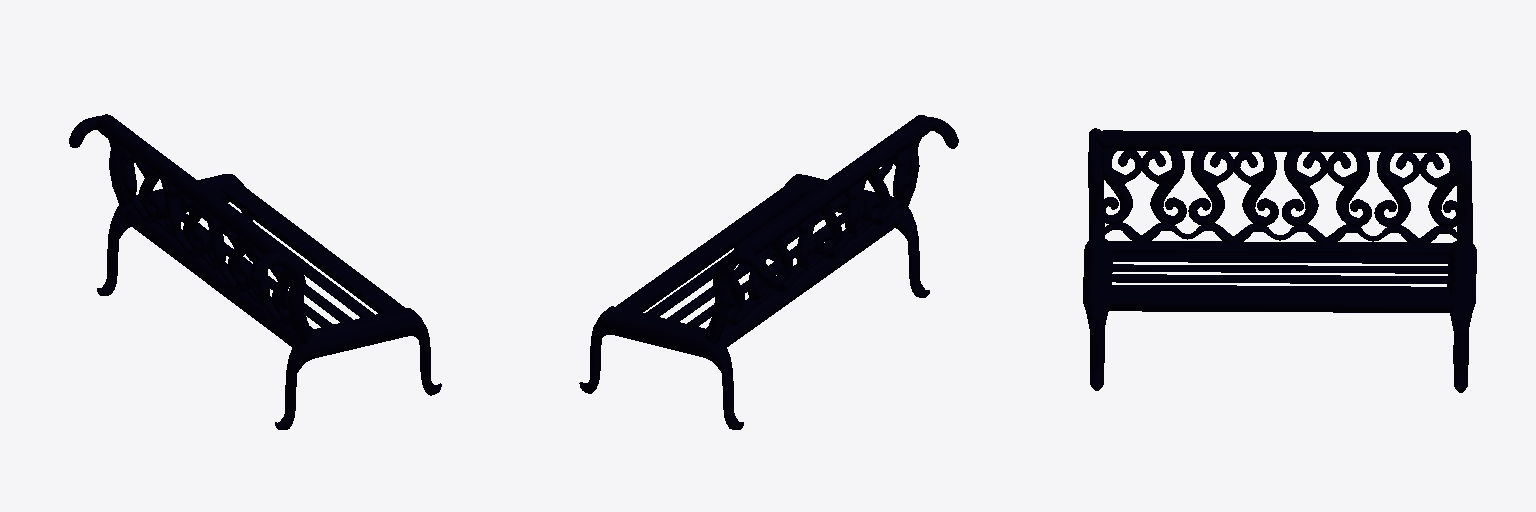
Rendered from BancaHollow.obj.
The picture shows the model from 3 angles: view 1: azimuth 30°, elevation 25°; view 2: azimuth 150°, elevation 25°; view 3: azimuth 270°, elevation 25°; orthographic projection.
Parts seen in each view (by area): view 1: Bench_Plane_001; view 2: Bench_Plane_001; view 3: Bench_Plane_001.
Boxes of the visible parts, <box> form: Bench_Plane_001: <box>69,114,441,429</box>; Bench_Plane_001: <box>579,115,958,429</box>; Bench_Plane_001: <box>1083,128,1476,392</box>.
Bounding box in the file's own units: 0.6389 × 0.5756 × 1.11.